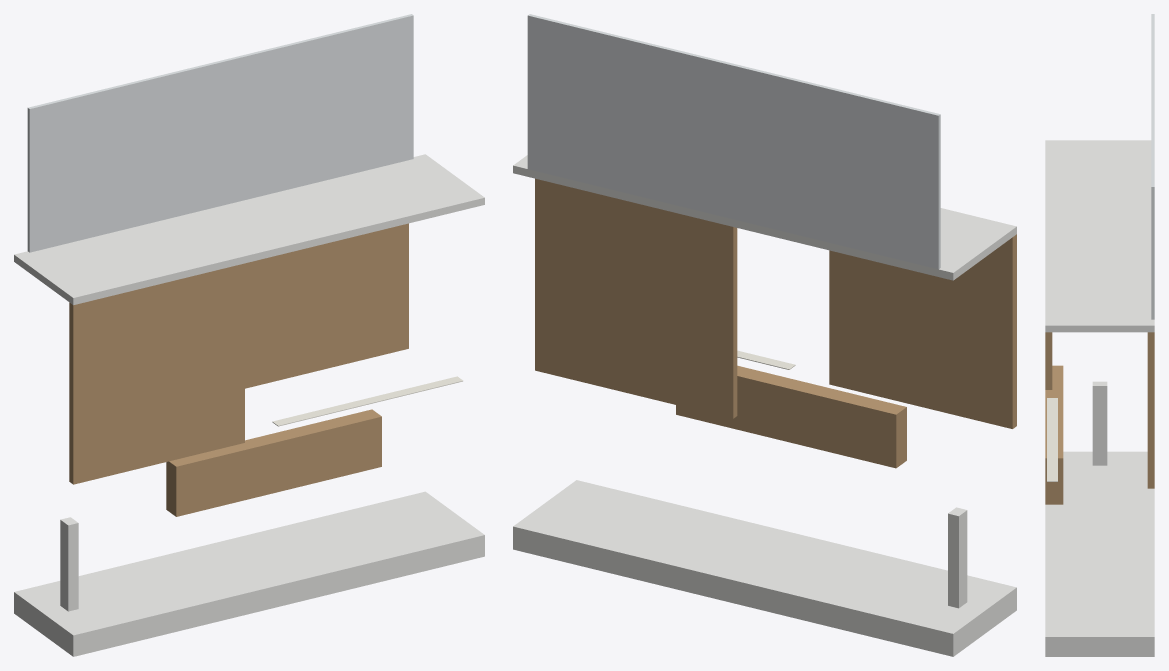
File: rules-playground.glb
3 views of the same model, side by side, from view 1: azimuth 30°, elevation 25°; view 2: azimuth 150°, elevation 25°; view 3: azimuth 270°, elevation 25° (orthographic). The views are drawn at different scales.
Parts seen in each view (by area): view 1: Mirror, Plinth, Leaf, TopRail, SlidingLeaf, Drawer, Rib, Slat; view 2: Mirror, SlidingLeaf, Plinth, Leaf, Drawer, TopRail, Rib; view 3: Plinth, TopRail, Drawer, Rib, SlidingLeaf, Mirror, Slat, Leaf.
Boxes of the visible parts, x1,y1,x2,y2 form: Mirror: (27, 14, 413, 252); Plinth: (14, 491, 484, 656); Leaf: (69, 263, 244, 484); TopRail: (14, 154, 484, 305); SlidingLeaf: (245, 223, 408, 388); Drawer: (166, 409, 381, 516); Rib: (60, 517, 78, 611); Slat: (272, 376, 462, 426); Mirror: (527, 14, 940, 269); SlidingLeaf: (535, 178, 737, 418); Plinth: (513, 480, 1016, 656); Leaf: (829, 234, 1016, 428); Drawer: (676, 365, 906, 468); TopRail: (513, 155, 1016, 280); Rib: (948, 507, 967, 608); Plinth: (1045, 451, 1154, 656); TopRail: (1045, 140, 1154, 332); Drawer: (1045, 365, 1063, 504); Rib: (1092, 381, 1107, 465); SlidingLeaf: (1147, 332, 1154, 488); Mirror: (1151, 14, 1154, 319); Slat: (1047, 398, 1057, 481); Leaf: (1045, 332, 1052, 389).
Bounding box in the file's own units: 1.2 × 1.4 × 0.3.
